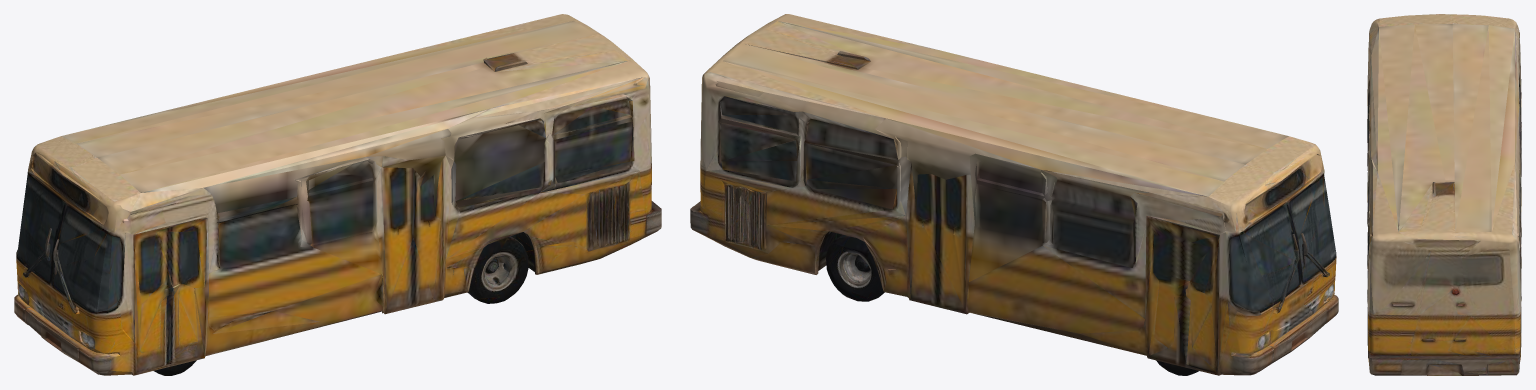
Rendered from bus.glb.
3 renders of one model, left to right at view 1: azimuth 30°, elevation 25°; view 2: azimuth 150°, elevation 25°; view 3: azimuth 270°, elevation 25°, orthographic. The views are drawn at different scales.
Bounding box in the file's own units: 1.9 × 0.6416 × 0.524.
1 material, 1 textured.
